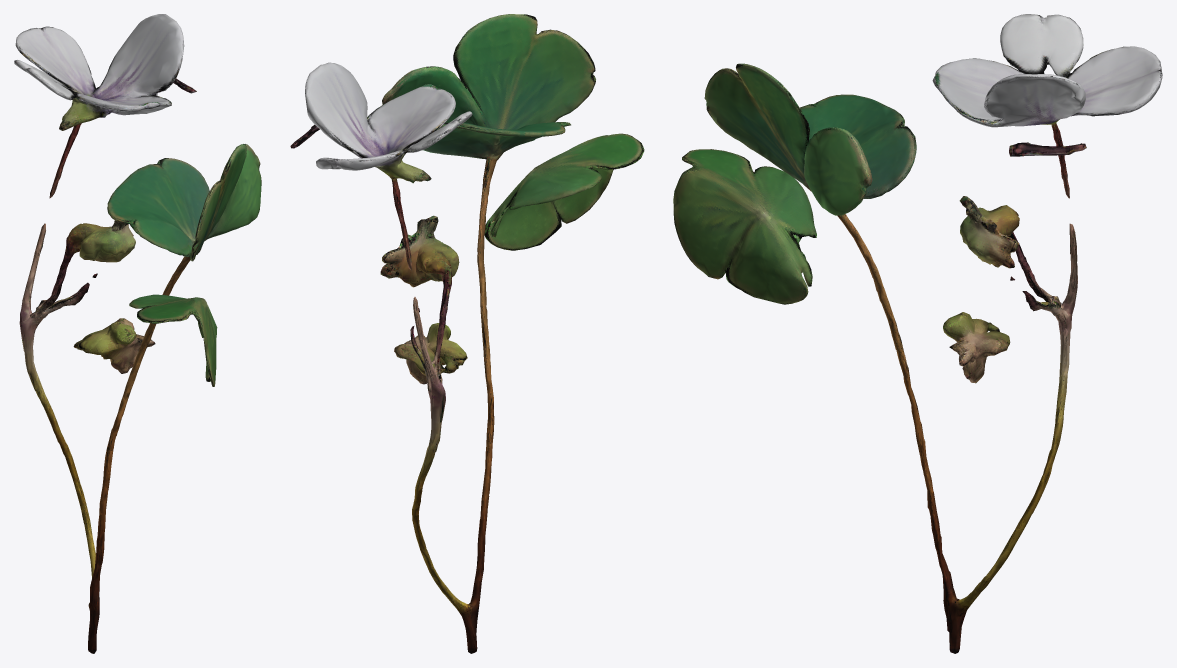
Rendered from sculpt7.glb.
3 views of the same model, side by side, from view 1: azimuth 30°, elevation 25°; view 2: azimuth 150°, elevation 25°; view 3: azimuth 270°, elevation 25° (orthographic). The views are drawn at different scales.
Parts seen in each view (by area): view 1: mesh; view 2: mesh; view 3: mesh.
Boxes of the visible parts, box(x1,y1,x2,y2) form: mesh: box(14, 14, 261, 653); mesh: box(290, 14, 644, 653); mesh: box(673, 14, 1162, 653).
Size of the model in its own units: 0.2379 by 0.6993 by 0.4842.
Materials: 1 (1 with a texture image).
